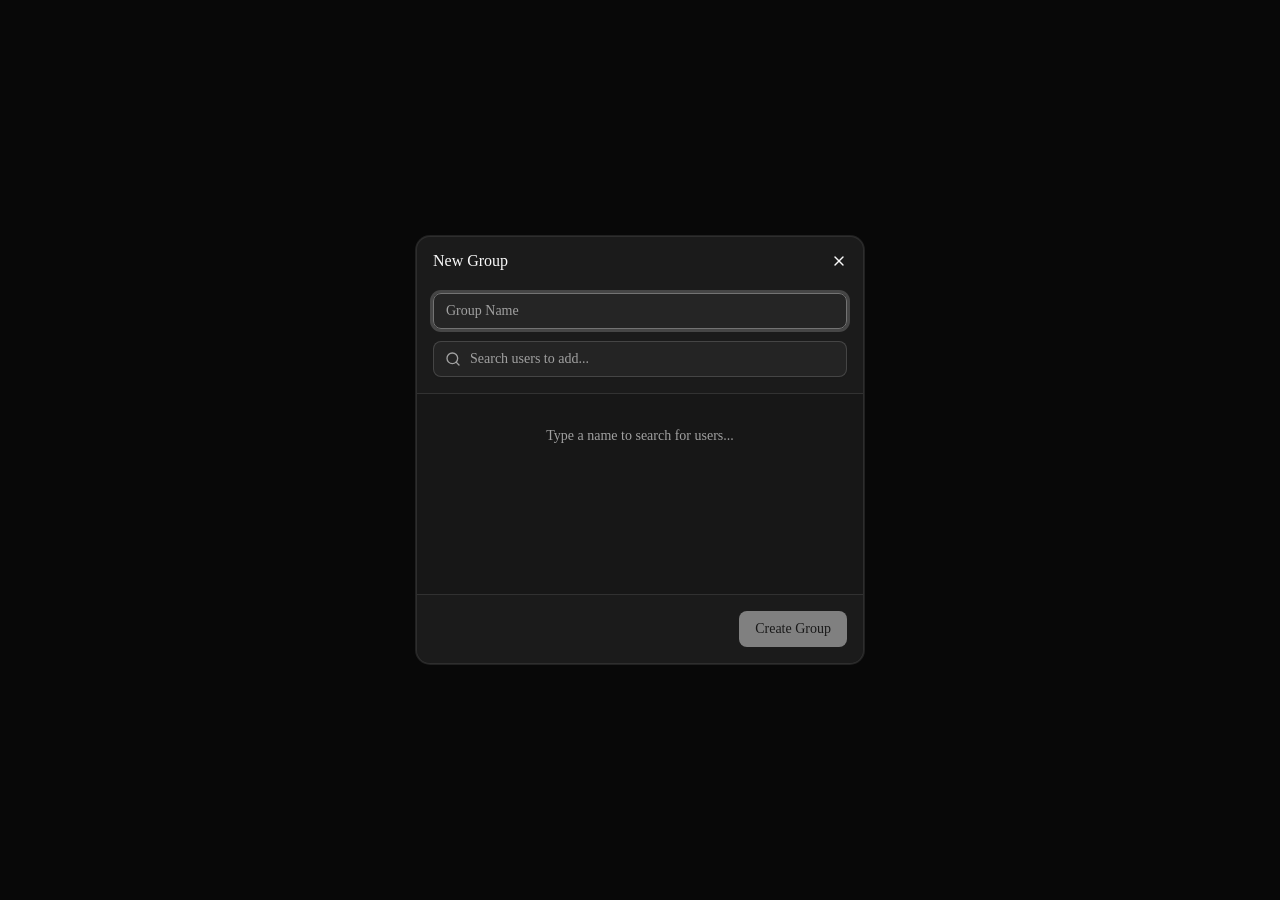
Test case: NewGroupDialog › allows adding and removing users from the group
Search for Alice
Type "alice" into the field with placeholder "Search users to add..." at (640, 359), box [433,341,847,377]
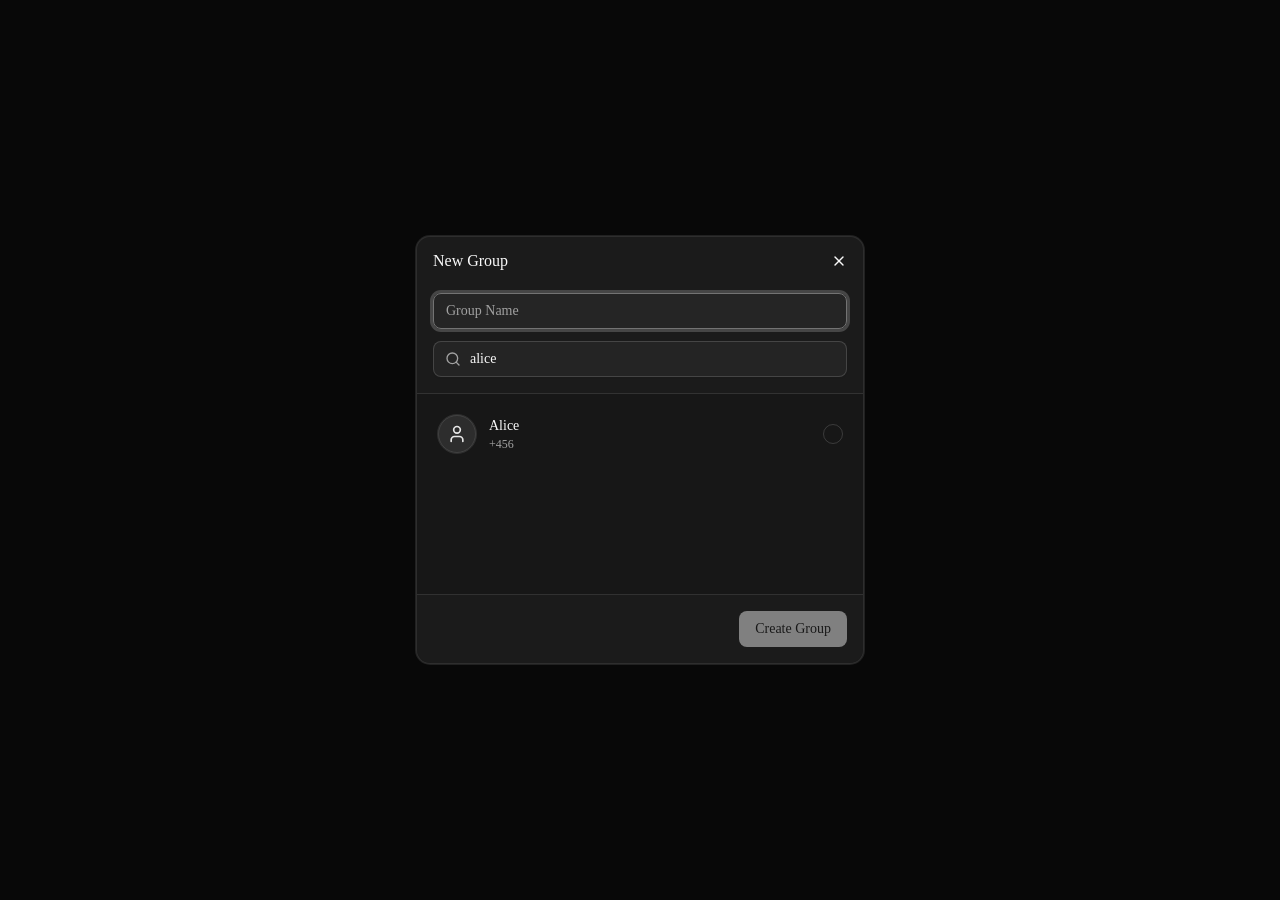
Now the text "Alice" is shown
Click Alice to add to group
Click the text "Alice" at (504, 426), box [489,416,519,436]
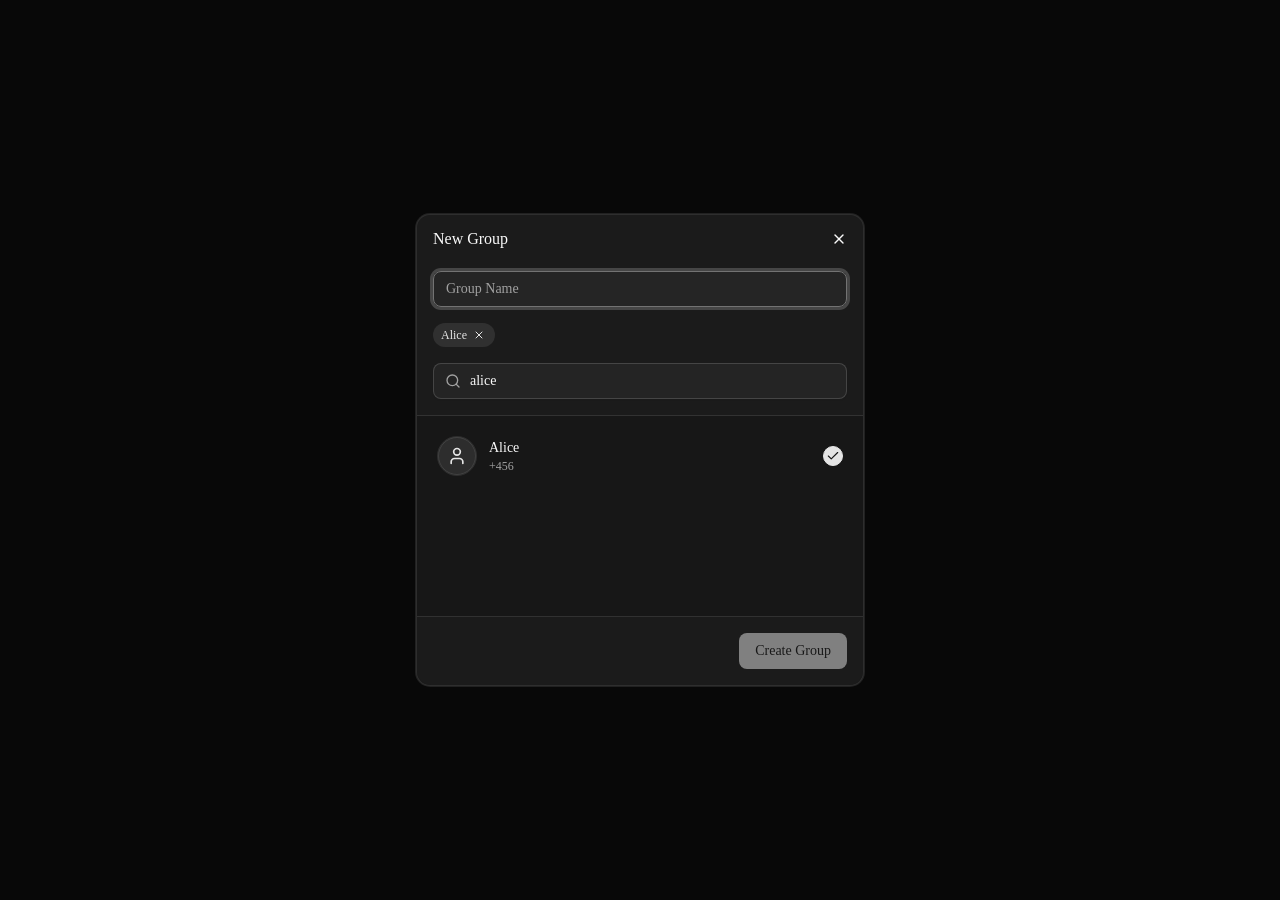
Expected: the button "Create Group" is disabled, [739,633,847,669]
Add group name
Type "My Group" into the field with placeholder "Group Name" at (640, 289), box [433,271,847,307]
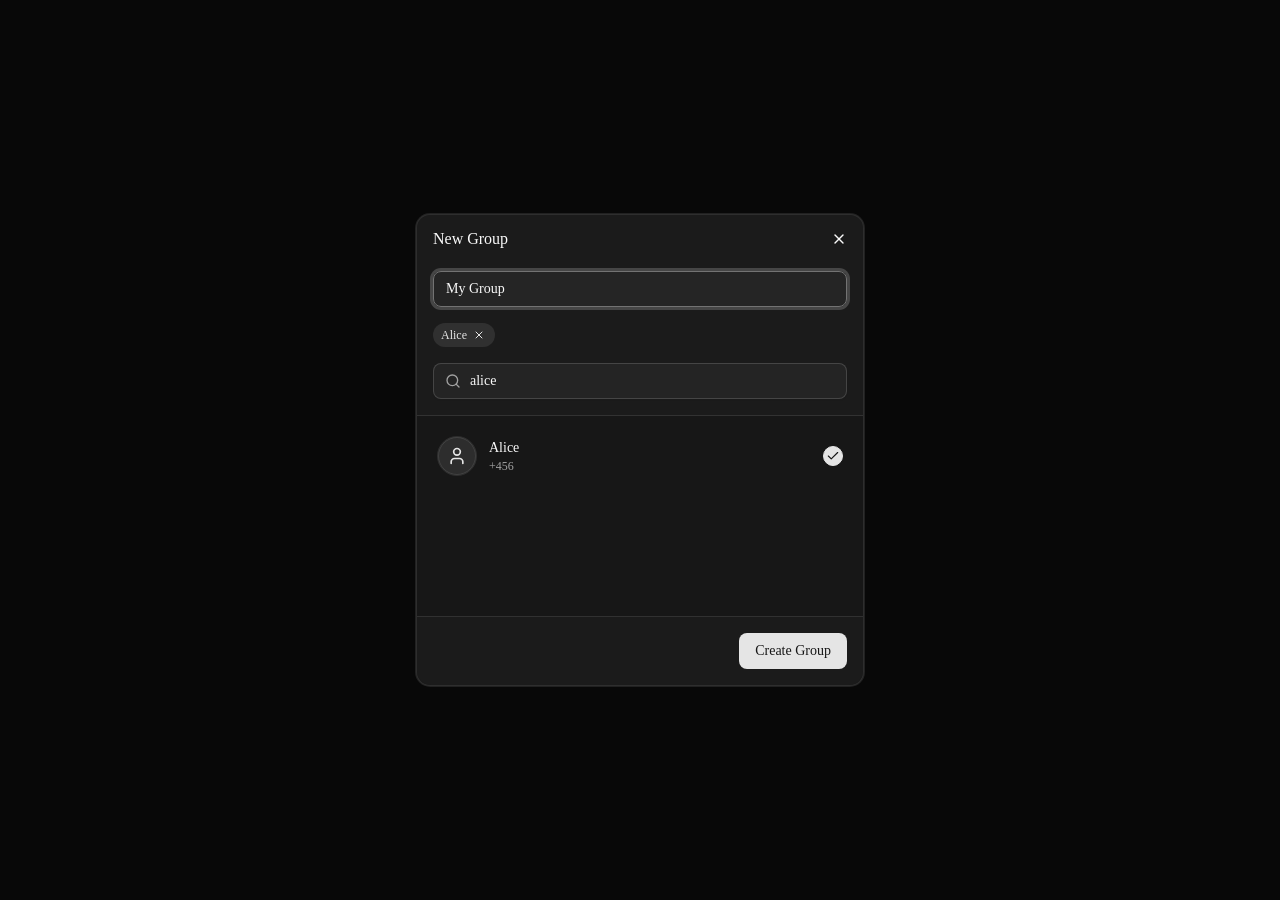
Now the button "Create Group" is enabled, box [739,633,847,669]
